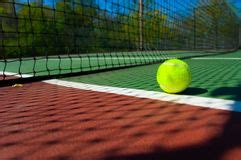tennis_ball: (156, 58, 191, 93)
